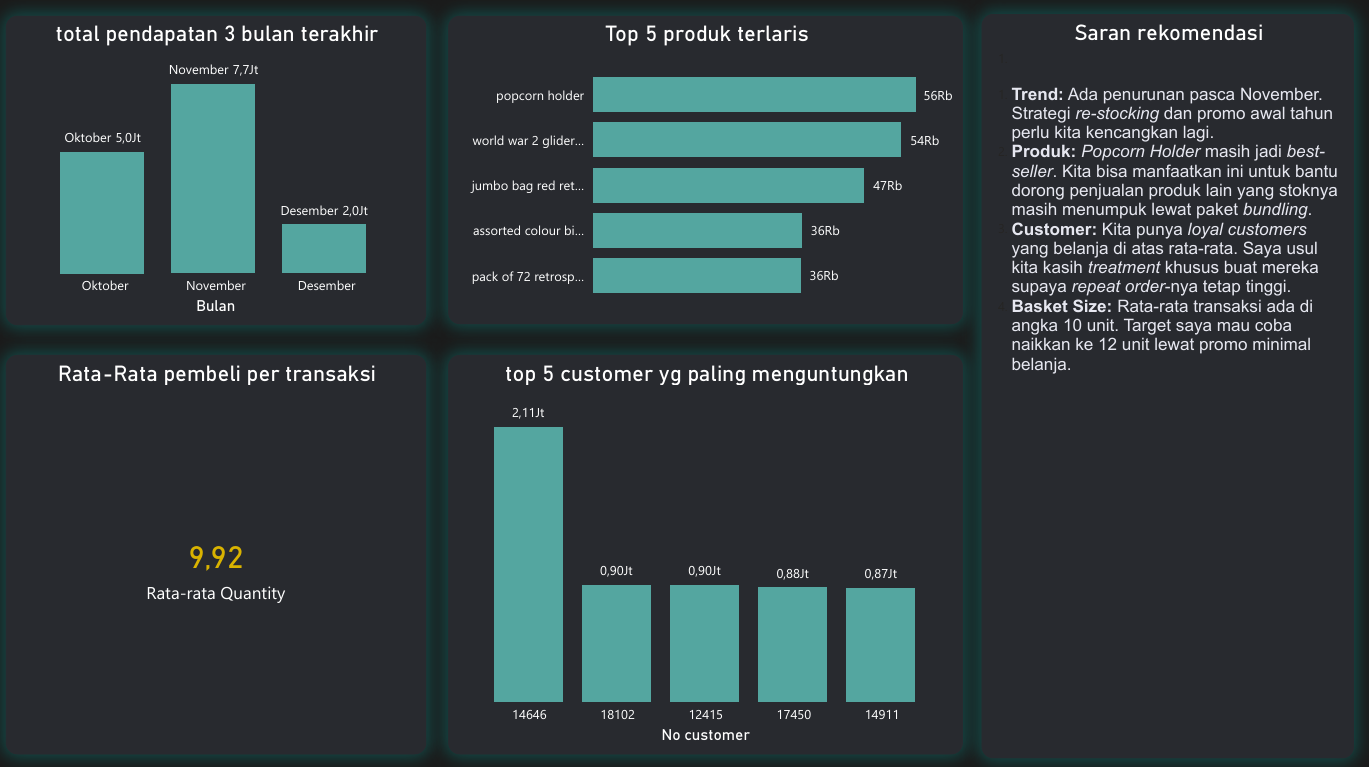

The page's visual inventory and layout, read from the dashboard file:
{"tool":"powerbi","page":{"name":"Dataset-kaggle","canvas":[1280,720],"ordinal":0},"visuals":[{"type":"columnChart","title":"total pendapatan 3 bulan terakhir","fields":{"Y":["Sum(latihan_kaggle sales_bersih.total_pendapatan)"],"Category":["latihan_kaggle sales_bersih.Date.Variasi.Hierarki Tanggal.Bulan"]},"box":[8.8,16.2,392.5,288.8],"z":0},{"type":"clusteredBarChart","title":"Top 5 produk terlaris","fields":{"Category":["latihan_kaggle sales_bersih.ProductName"],"Y":["Sum(latihan_kaggle sales_bersih.Quantity)"]},"box":[421.2,16.2,481.2,287.5],"z":1000},{"type":"card","title":"Rata-Rata pembeli per transaksi","fields":{"Values":["Avg(latihan_kaggle sales_bersih.Quantity)"]},"box":[8.8,333.8,392.5,372.5],"z":2000},{"type":"columnChart","title":"top 5 customer yg paling menguntungkan","fields":{"Category":["latihan_kaggle sales_bersih.CustomerNo"],"Y":["Sum(latihan_kaggle sales_bersih.total_pendapatan)"]},"box":[421.2,333.8,481.2,372.5],"z":3000},{"type":"textbox","title":"Saran rekomendasi","box":[920,15,360,695],"z":4000}]}

Visuals, with their boxes in screenshot pixels (x1, y1, x2, y2), scaled from the page's 1280x720 canvas onto the 1369x767 screenshot:
"total pendapatan 3 bulan terakhir" columnChart: l=9, t=17, r=429, b=325
"Top 5 produk terlaris" clusteredBarChart: l=450, t=17, r=965, b=324
"Rata-Rata pembeli per transaksi" card: l=9, t=356, r=429, b=752
"top 5 customer yg paling menguntungkan" columnChart: l=450, t=356, r=965, b=752
"Saran rekomendasi" textbox: l=984, t=16, r=1368, b=756
